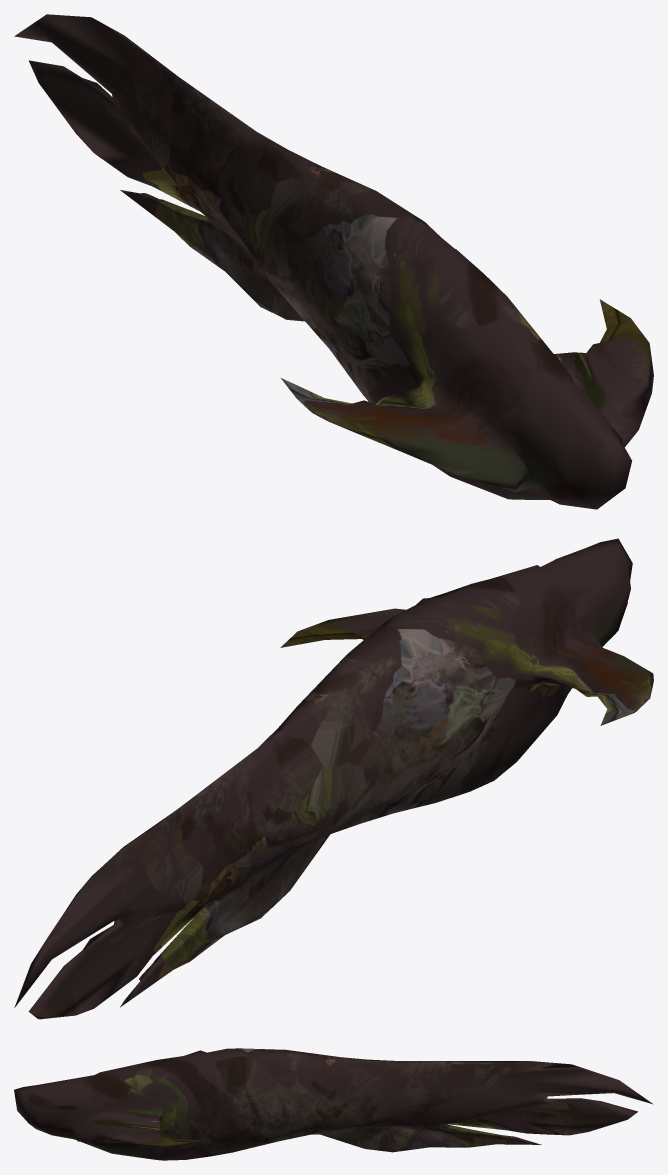
Rendered from rarefish.fbx.
3 renders of one model, top to bottom at view 1: azimuth 30°, elevation 25°; view 2: azimuth 150°, elevation 25°; view 3: azimuth 270°, elevation 25°, orthographic. The views are drawn at different scales.
Parts seen in each view (by area): view 1: Group34768; view 2: Group34768; view 3: Group34768.
Boxes of the visible parts, <box> form: Group34768: <box>14,14,653,509</box>; Group34768: <box>14,538,653,1019</box>; Group34768: <box>14,1048,653,1160</box>.
Size of the model in its own units: 69.79 by 40.22 by 219.
